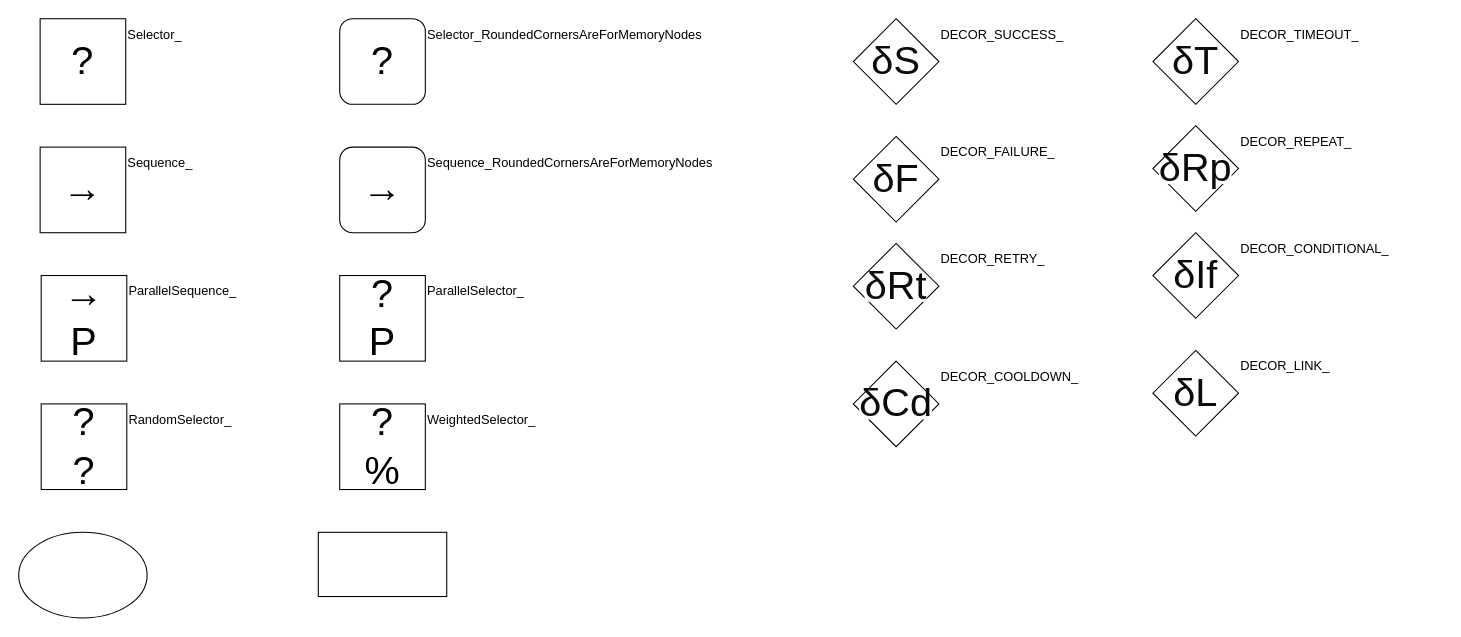
Image size: 1461x637. Some labels were removed from this diagram. Each missing label, with the centre of its shape:
ActionNode: [382,564]
ConditionNode: [82,574]
